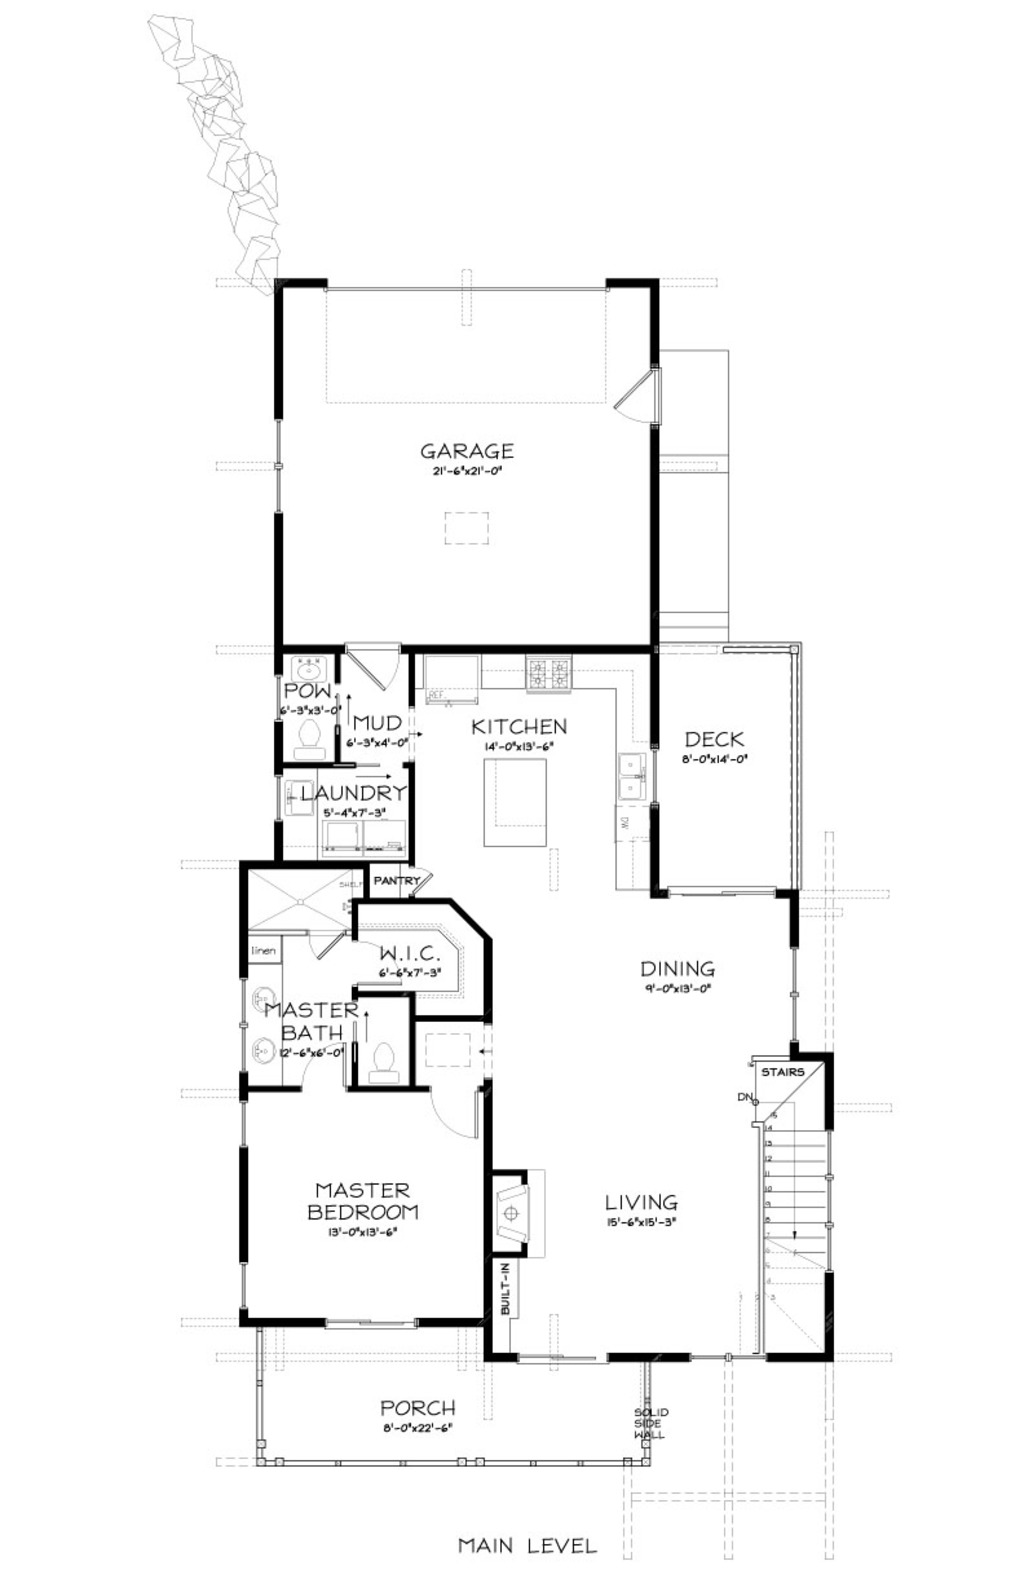door: (607, 351, 682, 459), (333, 631, 406, 706), (426, 1071, 496, 1146), (301, 1021, 366, 1091), (306, 929, 361, 974), (391, 860, 446, 899)
kitchen_bar: (479, 734, 548, 891)
large_sink: (288, 706, 342, 774), (366, 1034, 411, 1091)
small_sink: (236, 950, 293, 1094)
stairs: (741, 1031, 863, 1364)
twin_sink: (583, 726, 701, 815)
window: (261, 414, 316, 528), (503, 1326, 603, 1379), (326, 1310, 446, 1331)
